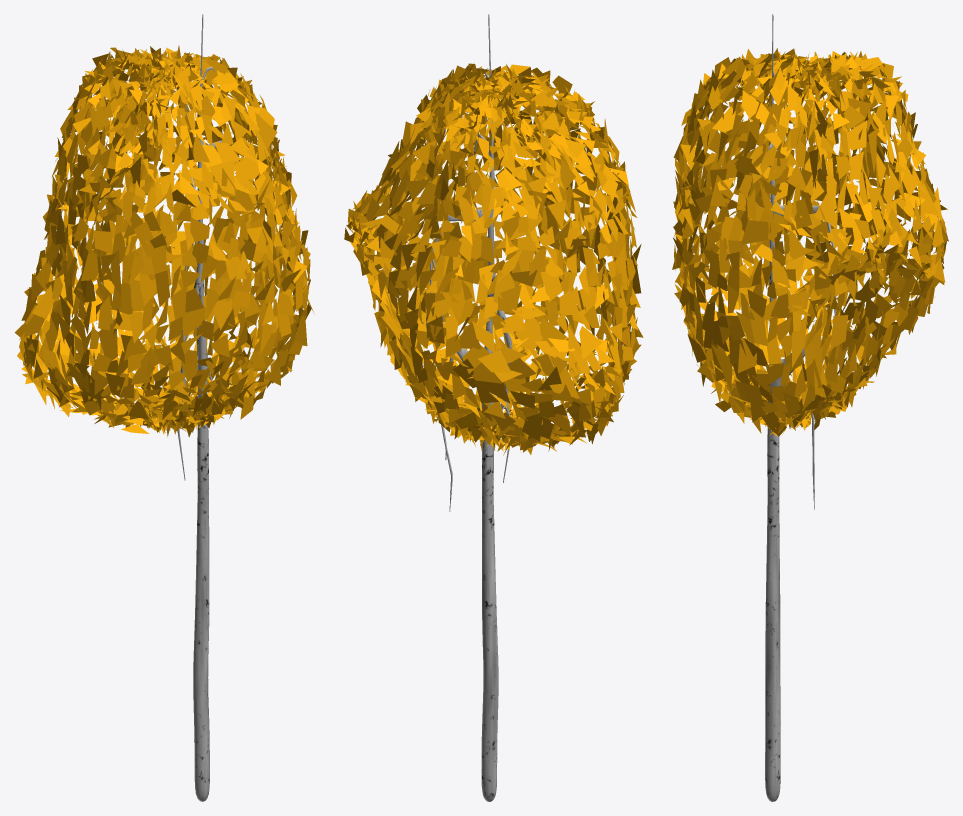
Rendered from Leaves53.002.fbx.
The picture shows the model from 3 angles, left to right: view 1: azimuth 30°, elevation 25°; view 2: azimuth 150°, elevation 25°; view 3: azimuth 270°, elevation 25°; orthographic projection.
Visible parts, largest first — view 1: Leaves53.002; view 2: Leaves53.002; view 3: Leaves53.002.
Boxes of the visible parts, x1,y1,x2,y2 form: Leaves53.002: (14,14,314,801); Leaves53.002: (344,14,643,801); Leaves53.002: (672,14,948,801).
Bounding box in the file's own units: 903 × 2574 × 820.
Materials: 2 (1 with a texture image).
